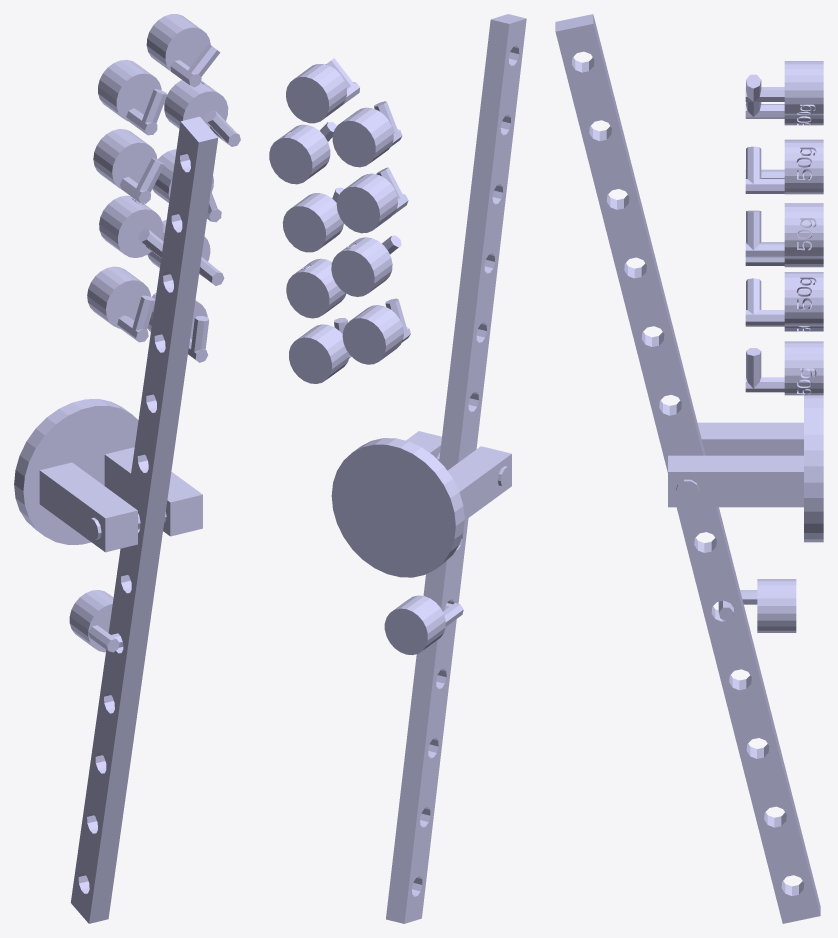
File: seesaw.gltf
3 renders of one model, left to right at view 1: azimuth 30°, elevation 25°; view 2: azimuth 150°, elevation 25°; view 3: azimuth 270°, elevation 25°, orthographic. The views are drawn at different scales.
Bounding box in the file's own units: 60.1 × 256 × 68.99.
